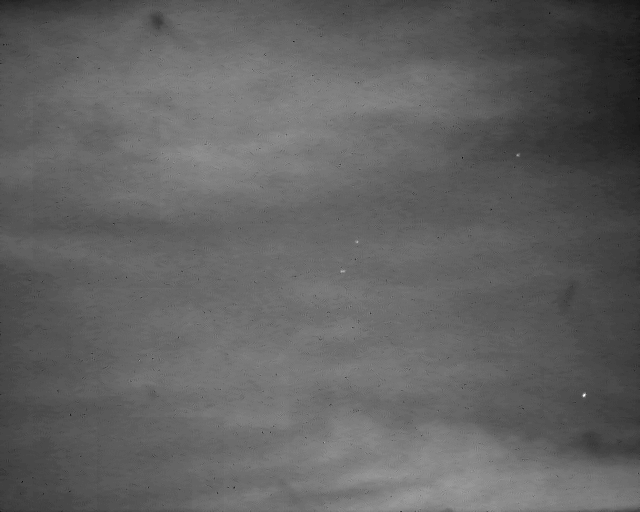Target: (582, 393, 588, 399), (341, 271, 348, 274), (355, 240, 360, 244), (517, 154, 521, 158)
